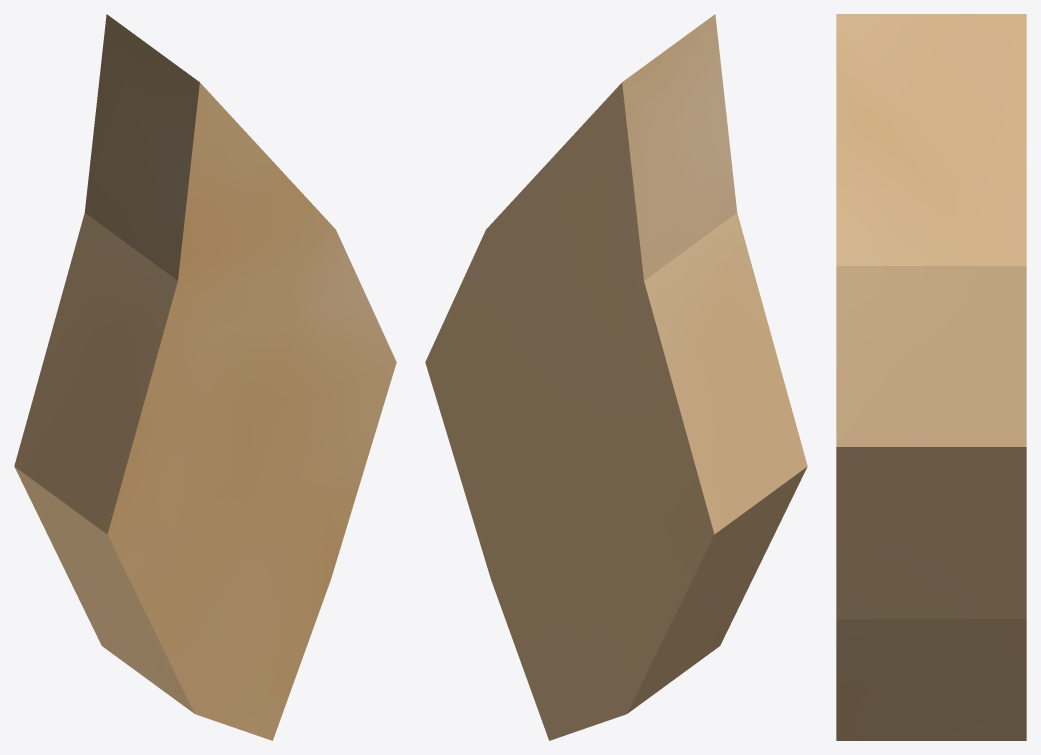
File: feu02.fbx
The picture shows the model from 3 angles, left to right: view 1: azimuth 30°, elevation 25°; view 2: azimuth 150°, elevation 25°; view 3: azimuth 270°, elevation 25°; orthographic projection. The views are drawn at different scales.
Parts seen in each view (by area): view 1: T_Sc_Eglise.011; view 2: T_Sc_Eglise.011; view 3: T_Sc_Eglise.011.
Part boxes in pixels (box(x1,y1,x2,y2)): T_Sc_Eglise.011: box(14, 14, 396, 740); T_Sc_Eglise.011: box(425, 14, 807, 740); T_Sc_Eglise.011: box(836, 14, 1026, 740).
Bounding box in the file's own units: 3.58 × 8.01 × 2.
